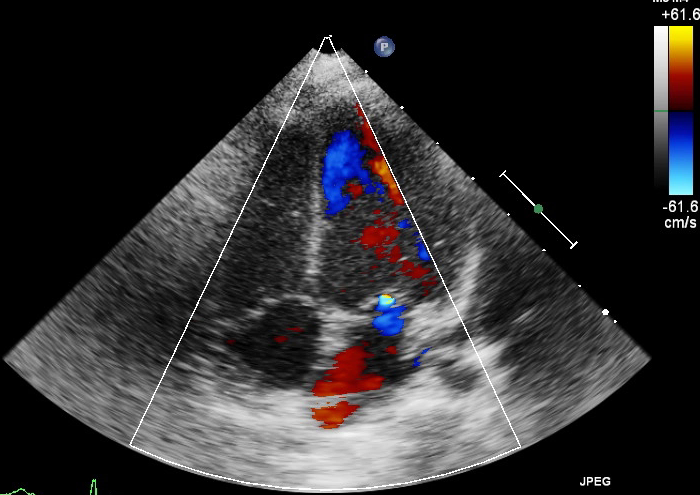MR: (349, 281, 417, 329)
